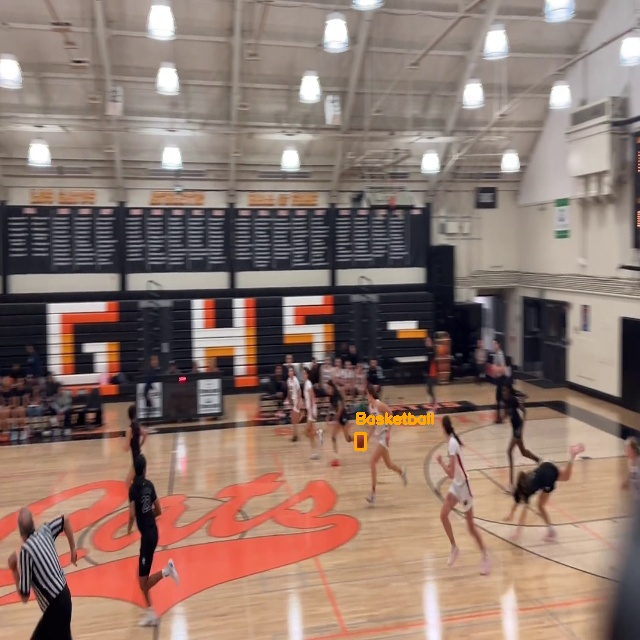Basketball: (355, 433, 365, 449)
